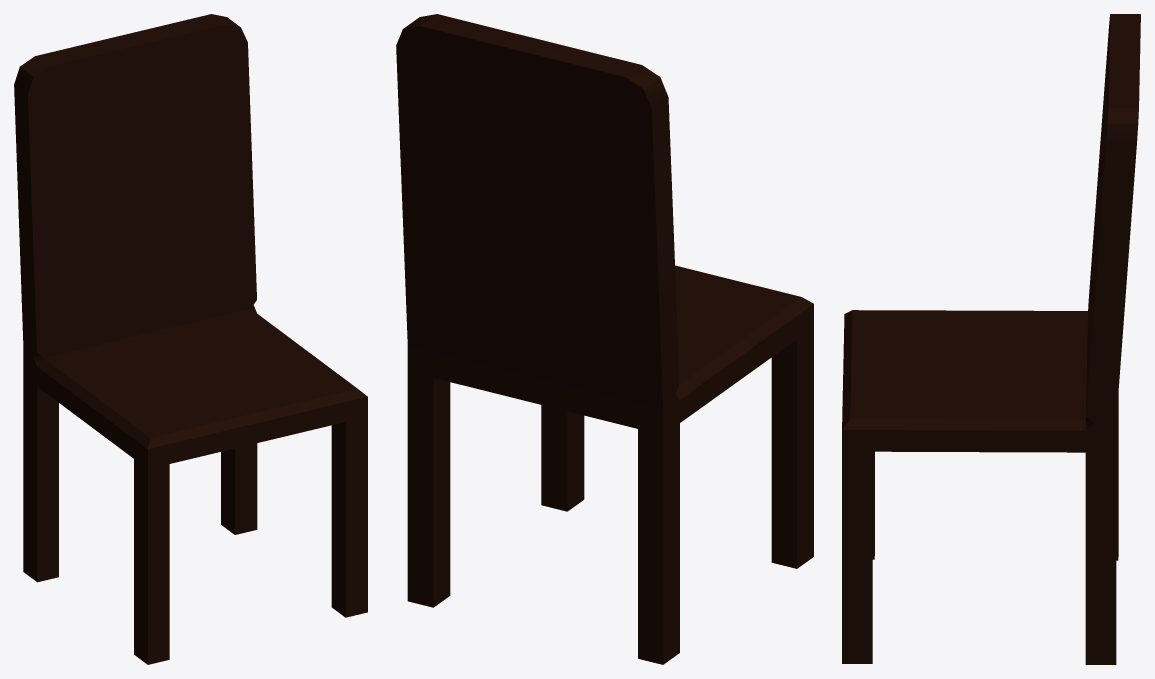
Rendered from Chair.dae.
3 renders of one model, left to right at view 1: azimuth 30°, elevation 25°; view 2: azimuth 150°, elevation 25°; view 3: azimuth 270°, elevation 25°, orthographic. The views are drawn at different scales.
Visible parts, largest first — view 1: pCube11; view 2: pCube11; view 3: pCube11.
Boxes of the visible parts, x1,y1,x2,y2 form: pCube11: (14, 14, 367, 664); pCube11: (396, 14, 813, 664); pCube11: (842, 14, 1140, 664).
Size of the model in its own units: 3.07 by 6.67 by 3.31.
